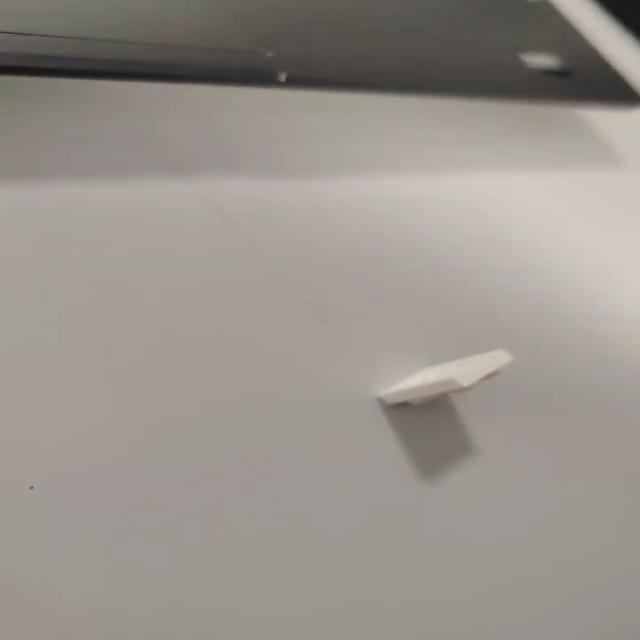C2x2x0: (375, 349, 517, 406)
